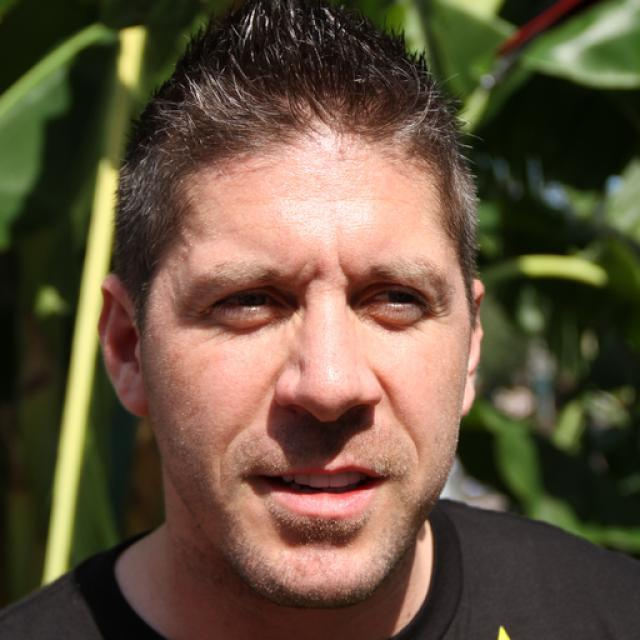disgust: (144, 132, 468, 608)
